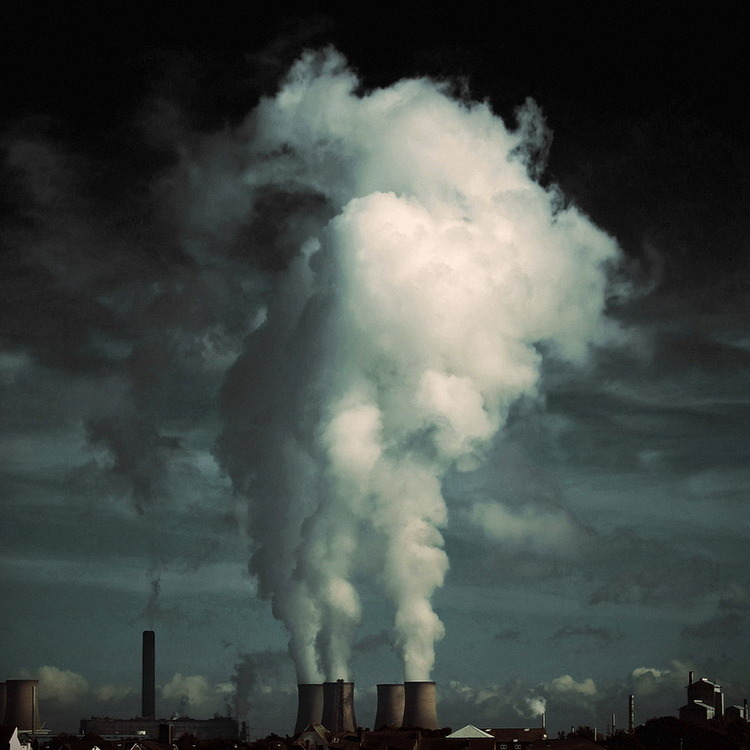dust: (245, 446, 370, 684), (367, 447, 475, 691)
